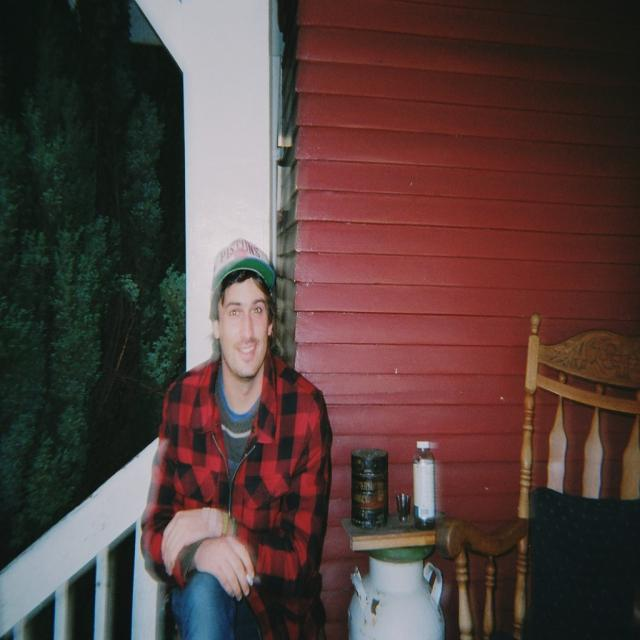Chair: (434, 316, 640, 640)
